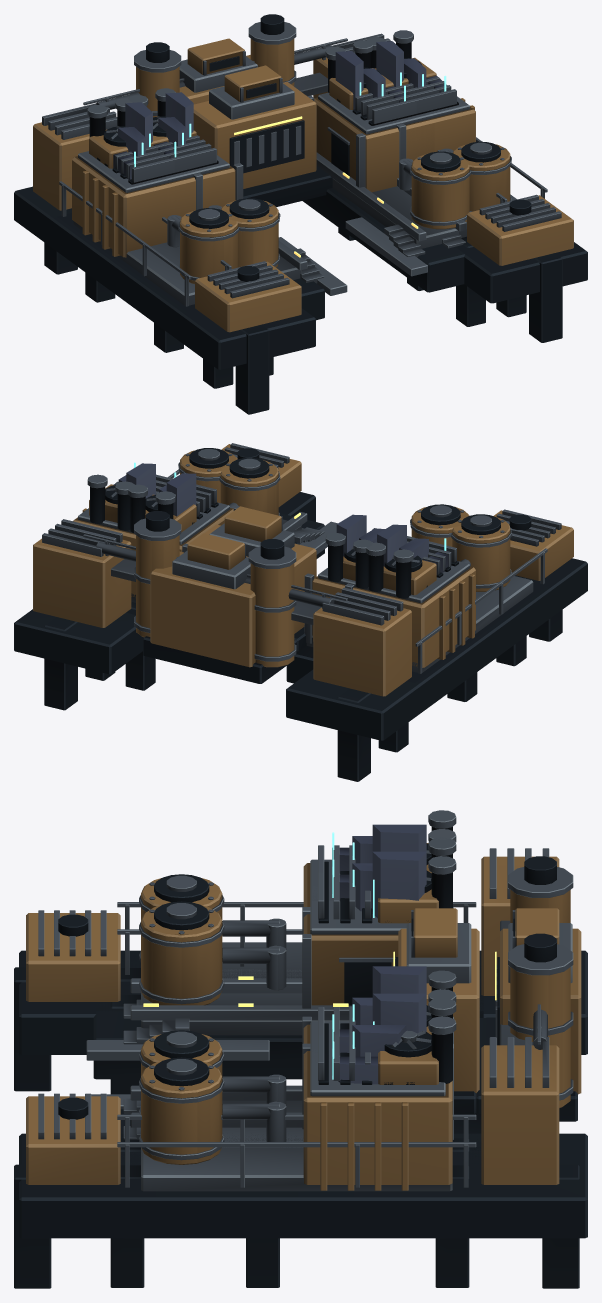
File: facility-compounds.glb
The picture shows the model from 3 angles, top to bottom: view 1: azimuth 30°, elevation 25°; view 2: azimuth 150°, elevation 25°; view 3: azimuth 270°, elevation 25°; orthographic projection. The views are drawn at different scales.
Visible parts, largest first — view 1: facility_khepri_large, facility_khepri, facility_nacre_large, facility_nacre; view 2: facility_khepri_large, facility_khepri, facility_nacre_large, facility_nacre; view 3: facility_khepri_large, facility_khepri, facility_nacre_large, facility_nacre.
Part boxes in pixels (x1,y1,x2,y2): facility_khepri_large: (14,14,587,414); facility_khepri: (128,40,507,375); facility_nacre_large: (113,41,447,179); facility_nacre: (153,51,406,158); facility_khepri_large: (14,443,587,781); facility_khepri: (114,457,469,690); facility_nacre_large: (113,462,451,574); facility_nacre: (159,472,384,556); facility_khepri_large: (14,810,587,1288); facility_khepri: (86,837,486,1167); facility_nacre_large: (332,824,426,1084); facility_nacre: (332,851,426,1055).
Size of the model in its own units: 8.7 by 4.58 by 8.48.
